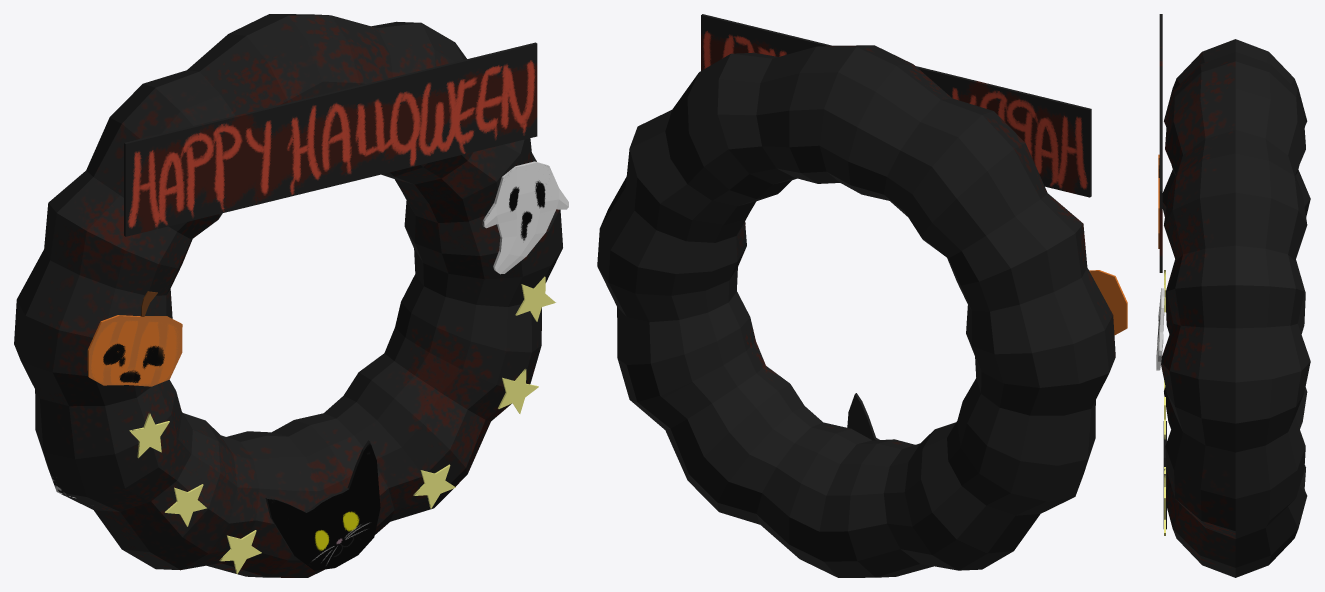
Rendered from Wreath2.fbx.
3 renders of one model, left to right at view 1: azimuth 30°, elevation 25°; view 2: azimuth 150°, elevation 25°; view 3: azimuth 270°, elevation 25°, orthographic. The views are drawn at different scales.
Parts seen in each view (by area): view 1: Wreath02_Model; view 2: Wreath02_Model; view 3: Wreath02_Model.
Boxes of the visible parts, x1=… form: Wreath02_Model: x1=14, y1=14, x2=568, y2=577; Wreath02_Model: x1=597, y1=14, x2=1127, y2=577; Wreath02_Model: x1=1156, y1=14, x2=1310, y2=577.
Bounding box in the file's own units: 42.93 × 12.18 × 42.97.
